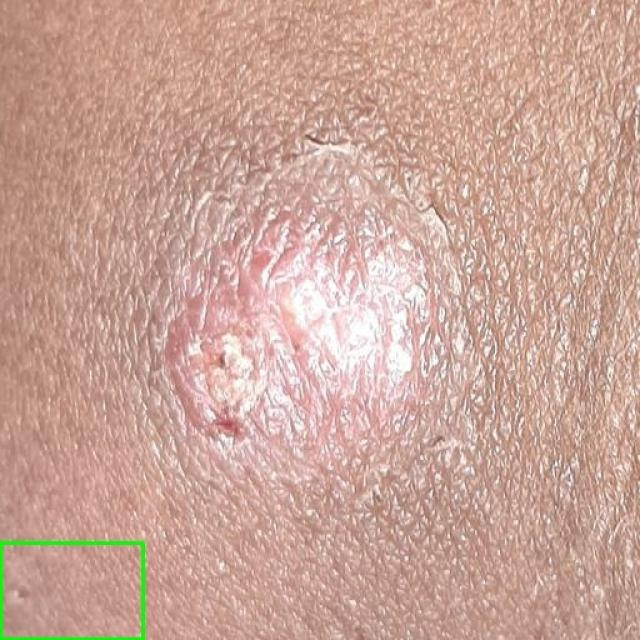Contact Dermatitis: (0, 542, 144, 639)
